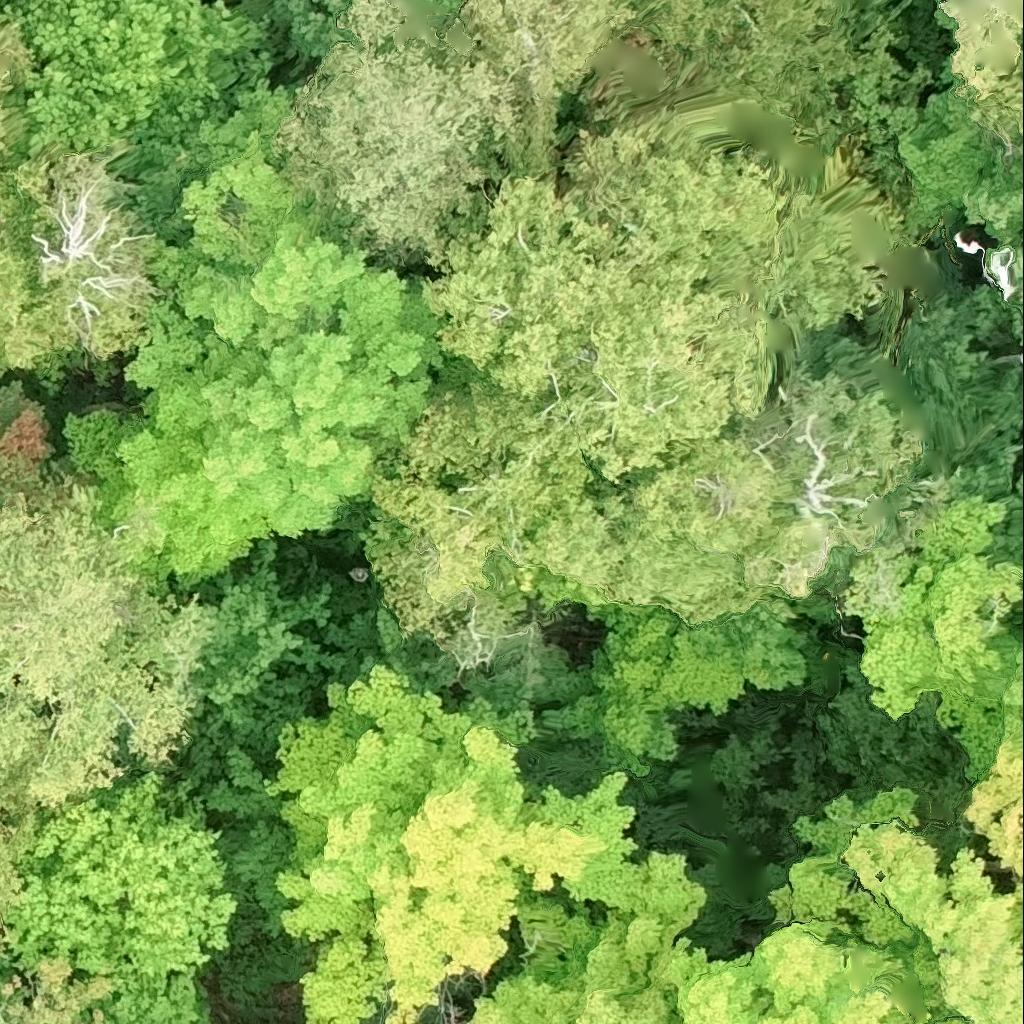crown: (366, 119, 960, 667), (66, 81, 444, 594), (210, 666, 639, 1023), (0, 470, 219, 821), (769, 758, 1023, 1023), (272, 0, 522, 265), (1, 0, 271, 244), (5, 773, 236, 977), (168, 545, 347, 781), (467, 849, 706, 1023), (542, 603, 752, 780), (13, 133, 173, 361), (461, 0, 636, 173), (674, 917, 932, 1023), (0, 153, 67, 378), (20, 953, 124, 1023), (98, 963, 213, 1023), (737, 592, 804, 686), (0, 813, 49, 932), (796, 408, 840, 518), (291, 0, 364, 60), (0, 14, 27, 153), (434, 0, 467, 35), (0, 0, 15, 15)
